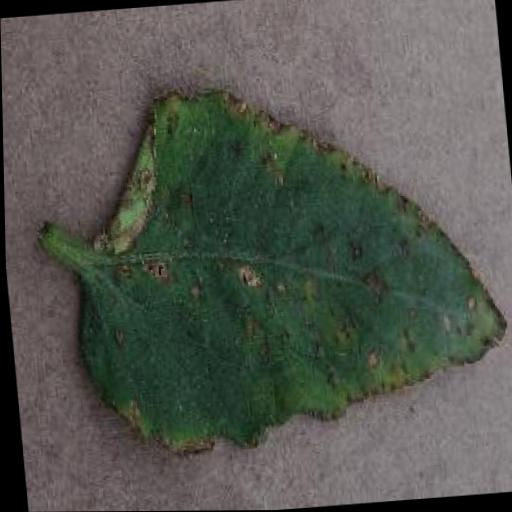Bacterial Spot: (51, 60, 512, 463)
